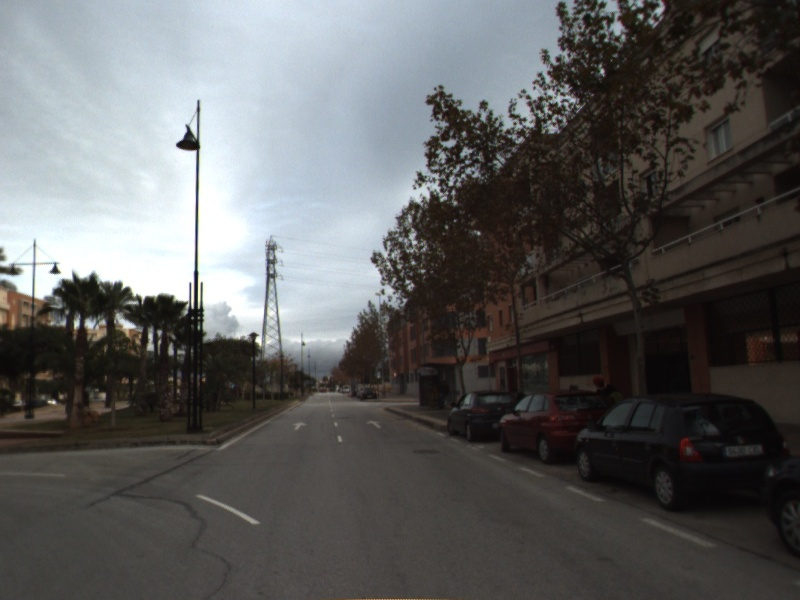STRAIGHT: (364, 418, 383, 430), (291, 420, 309, 431)
